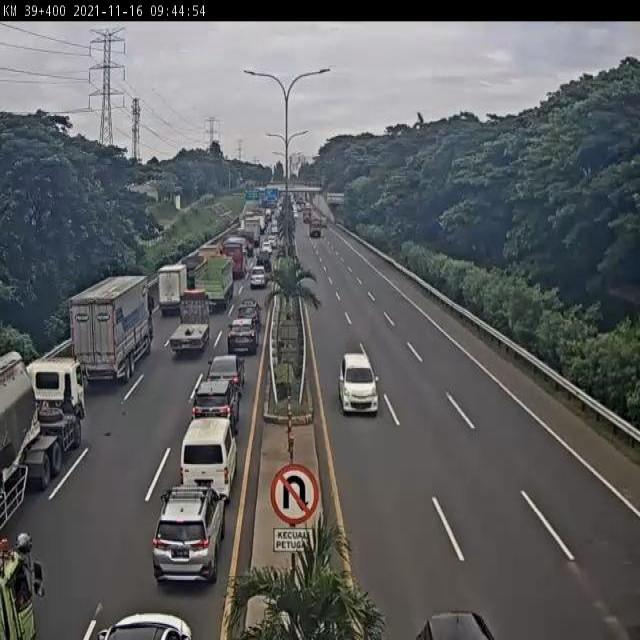Bus: (222, 235, 248, 277)
Car: (152, 481, 228, 582), (192, 376, 242, 434), (94, 610, 193, 638), (338, 355, 381, 415), (414, 610, 500, 640), (228, 315, 260, 355), (205, 354, 245, 384), (250, 266, 266, 288)
Truck: (0, 351, 85, 517), (70, 276, 154, 384), (169, 288, 210, 354), (194, 256, 234, 311), (158, 265, 188, 312)
Van: (179, 416, 238, 501)
